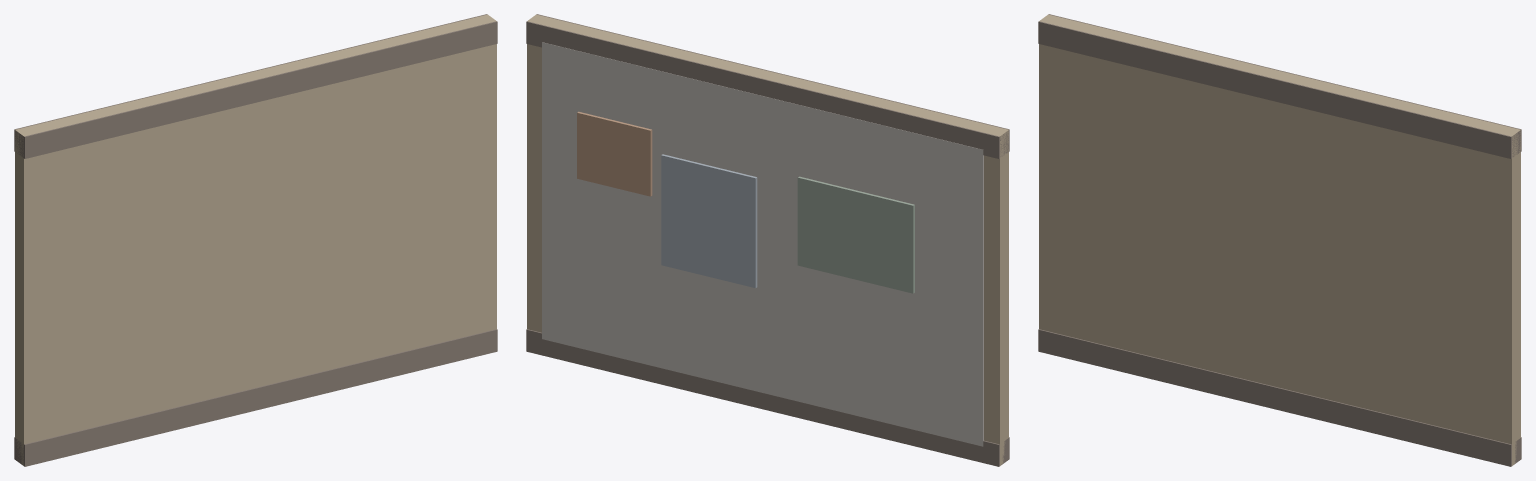
File: arte_mapa.glb
The picture shows the model from 3 angles, left to right: view 1: azimuth 30°, elevation 25°; view 2: azimuth 150°, elevation 25°; view 3: azimuth 330°, elevation 25°; orthographic projection.
Parts seen in each view (by area): view 1: ARTE_MAPA_v01; view 2: ARTE_MAPA_v01; view 3: ARTE_MAPA_v01.
Boxes of the visible parts, bbox=[...] form: ARTE_MAPA_v01: bbox=[14, 14, 497, 466]; ARTE_MAPA_v01: bbox=[526, 14, 1009, 466]; ARTE_MAPA_v01: bbox=[1038, 14, 1521, 466].
Size of the model in its own units: 0.9 by 0.6 by 0.0405.
